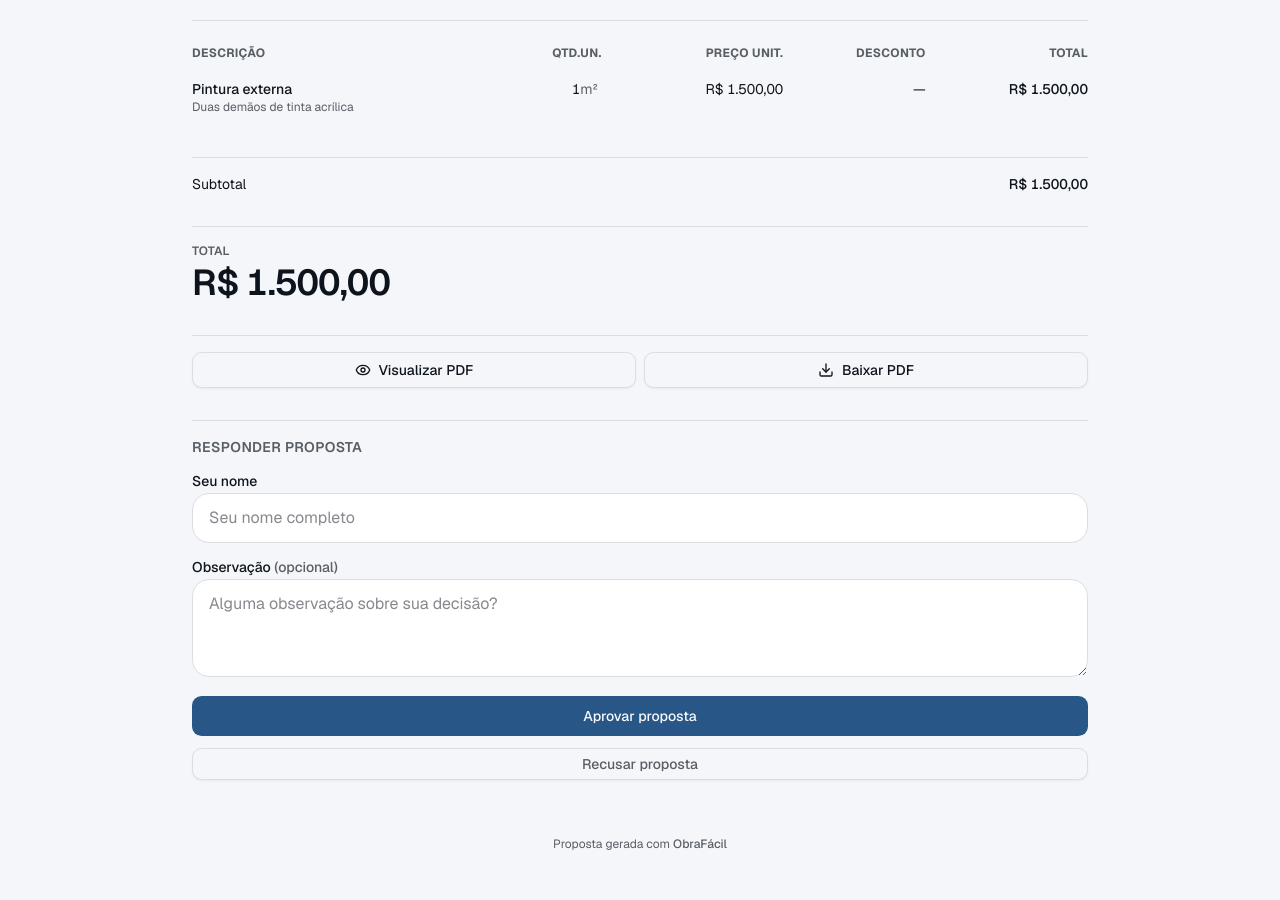
it: ProposalView › on 409 (already decided elsewhere) refetches and renders the winning state instead of retrying or erroring
(page scrolled)
Type "Maria Cliente" into the field labelled "Seu nome" at (640, 518), box [192,493,1088,543]
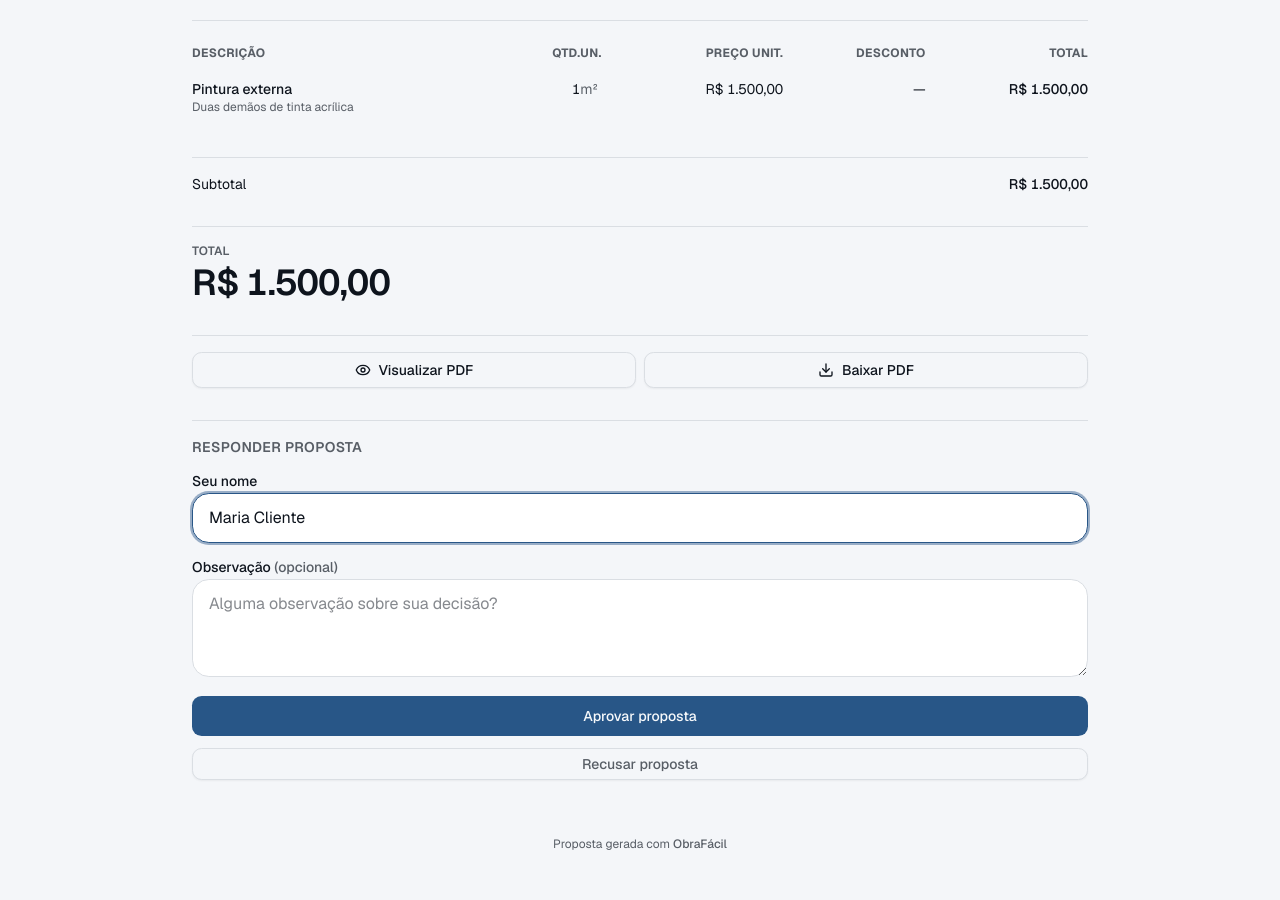
Click the button "Aprovar proposta" at (640, 716), box [192,696,1088,736]
(page scrolled)
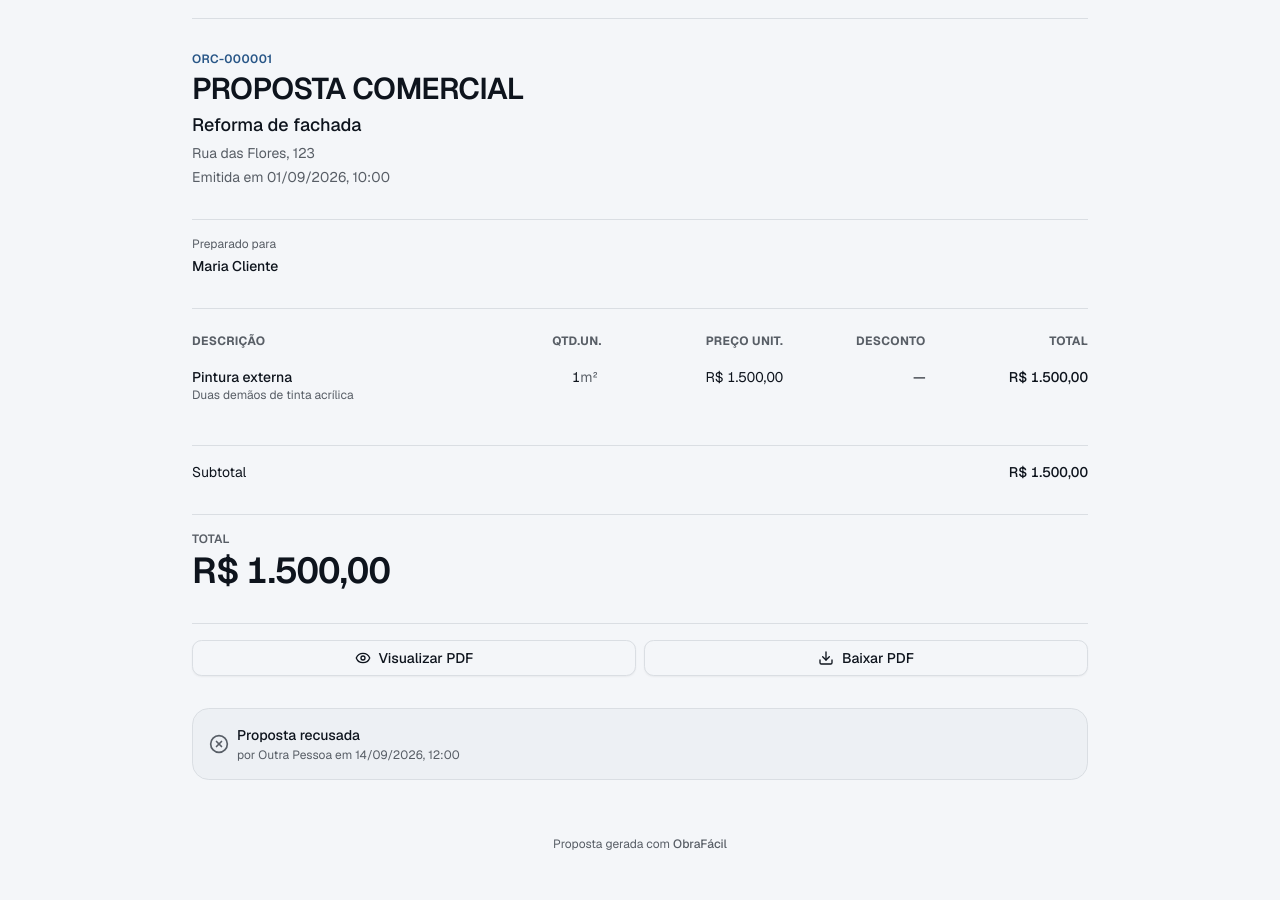
Expected: the text "Proposta recusada" is shown, [237,726,360,744]
